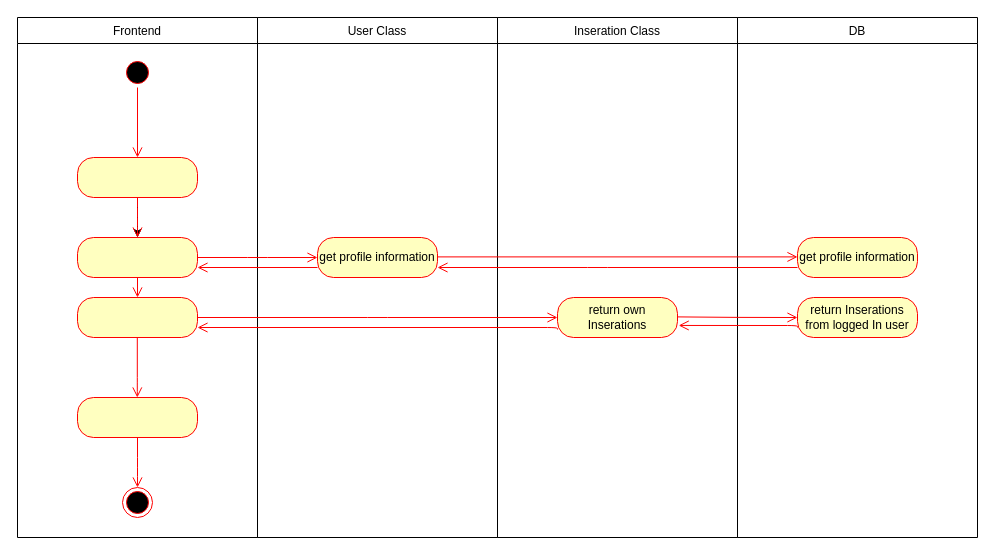
The diagram is 995 pixels wide and 555 high, and some of its shapes have lost their labels. The shapes that lost their labels are listed below. From the top down, each one's centre as x and y in pixels, then its label:
(137,177): login user
(137,257): navigate to profile
(137,317): navigate to inserations
(137,417): show user´s inserations
